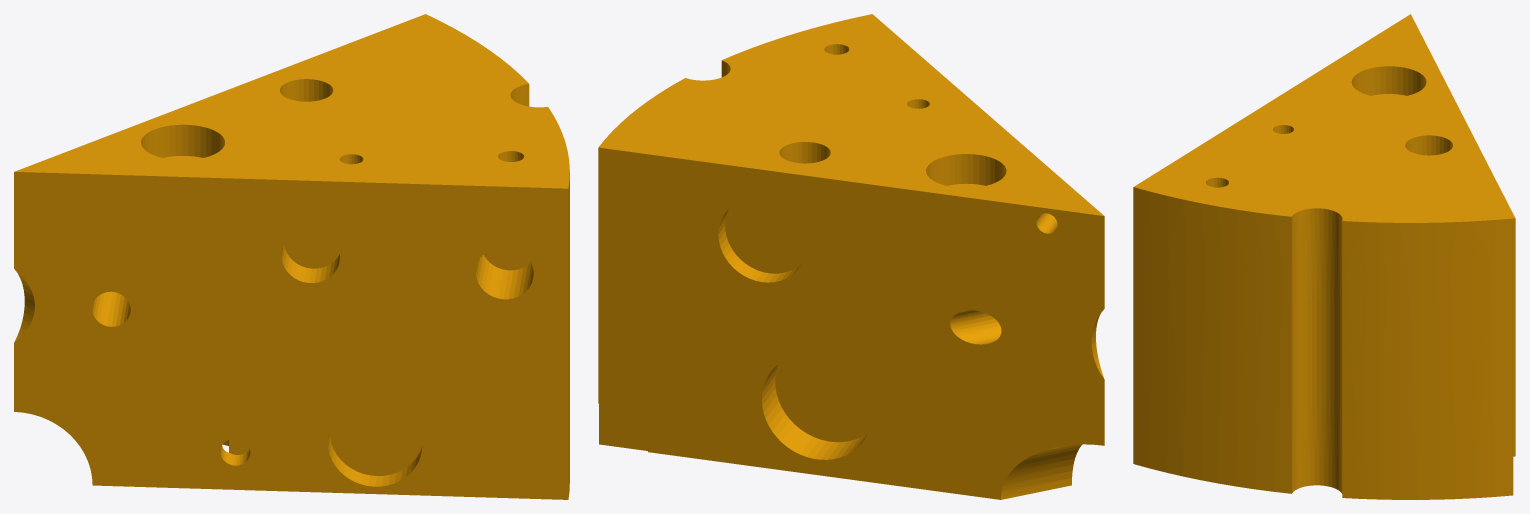
File: htmlcheese.glb
3 renders of one model, left to right at view 1: azimuth 30°, elevation 25°; view 2: azimuth 150°, elevation 25°; view 3: azimuth 270°, elevation 25°, orthographic. The views are drawn at different scales.
Parts seen in each view (by area): view 1: cheese; view 2: cheese; view 3: cheese.
Part boxes in pixels (bbox=[...]): cheese: bbox=[14, 14, 569, 499]; cheese: bbox=[598, 14, 1104, 499]; cheese: bbox=[1133, 14, 1515, 499].
Size of the model in its own units: 6.16 by 3.81 by 4.76.
